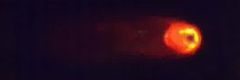keyhole: (184, 32, 198, 44)
